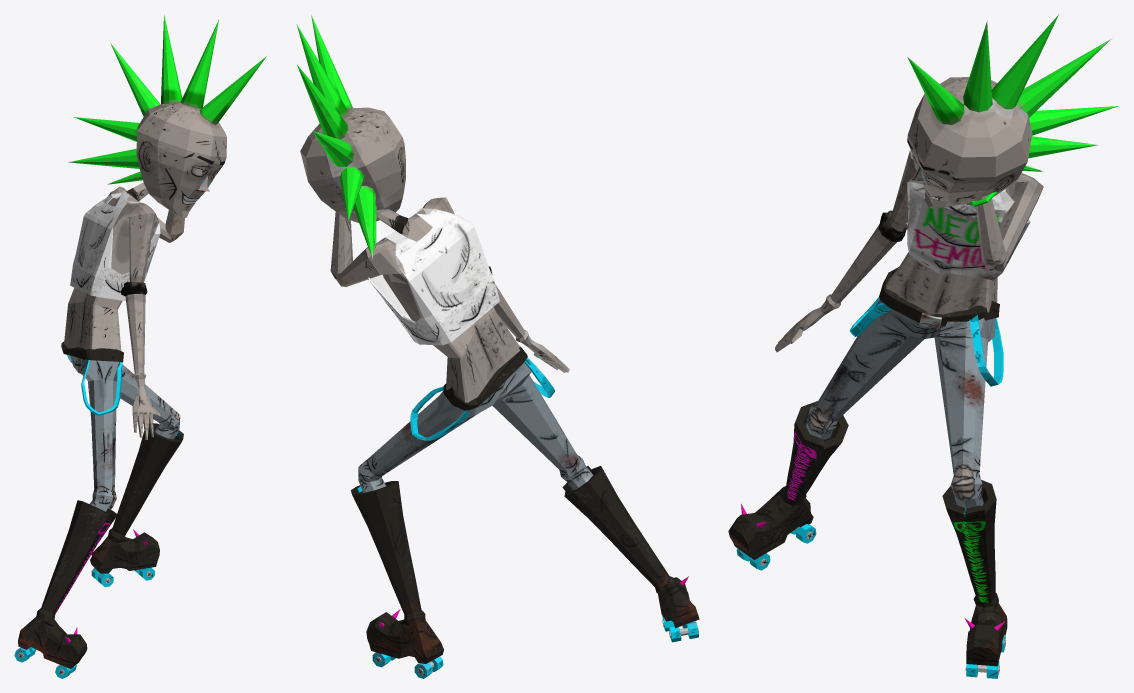
Rendered from punkAnimation_000074.obj.
The picture shows the model from 3 angles, left to right: view 1: azimuth 30°, elevation 25°; view 2: azimuth 150°, elevation 25°; view 3: azimuth 270°, elevation 25°; orthographic projection. The views are drawn at different scales.
Visible parts, largest first — view 1: Cube.004_Cube.003; view 2: Cube.004_Cube.003; view 3: Cube.004_Cube.003.
Boxes of the visible parts, bbox=[...] form: Cube.004_Cube.003: bbox=[14, 14, 266, 678]; Cube.004_Cube.003: bbox=[296, 15, 699, 678]; Cube.004_Cube.003: bbox=[728, 14, 1118, 678].
Size of the model in its own units: 3.78 by 6.59 by 3.31.
